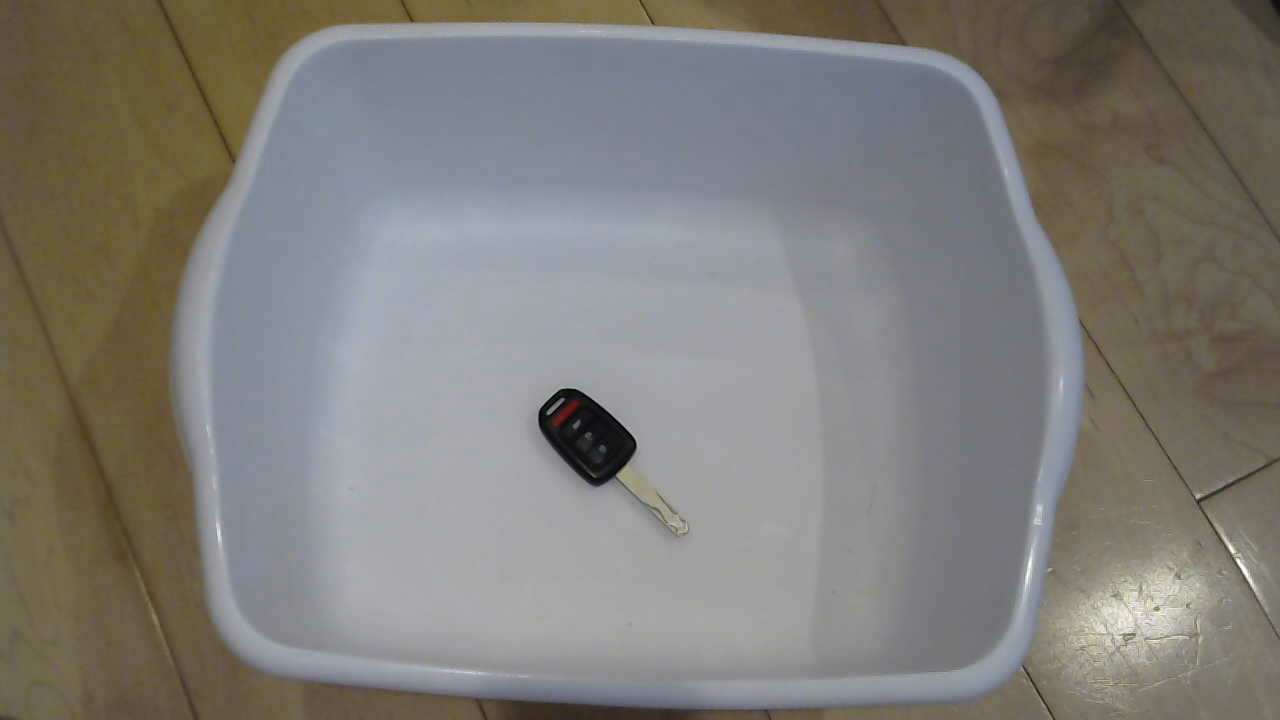key: (513, 380, 722, 556)
